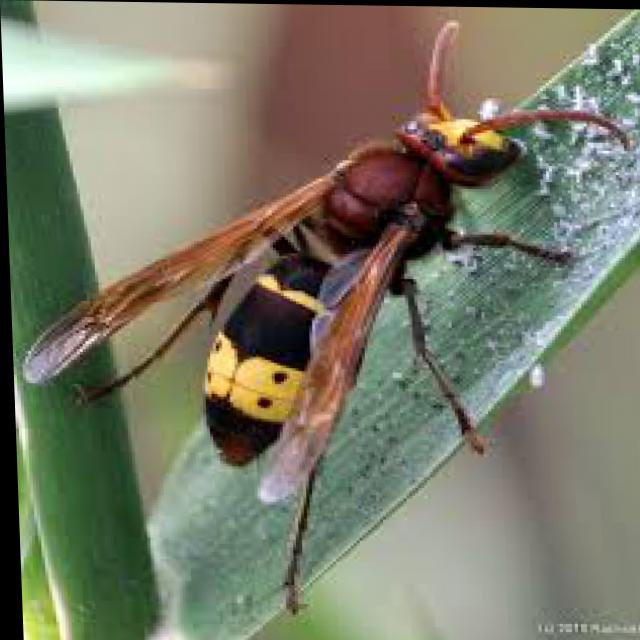Vespa Orientalis: (0, 2, 639, 634)
